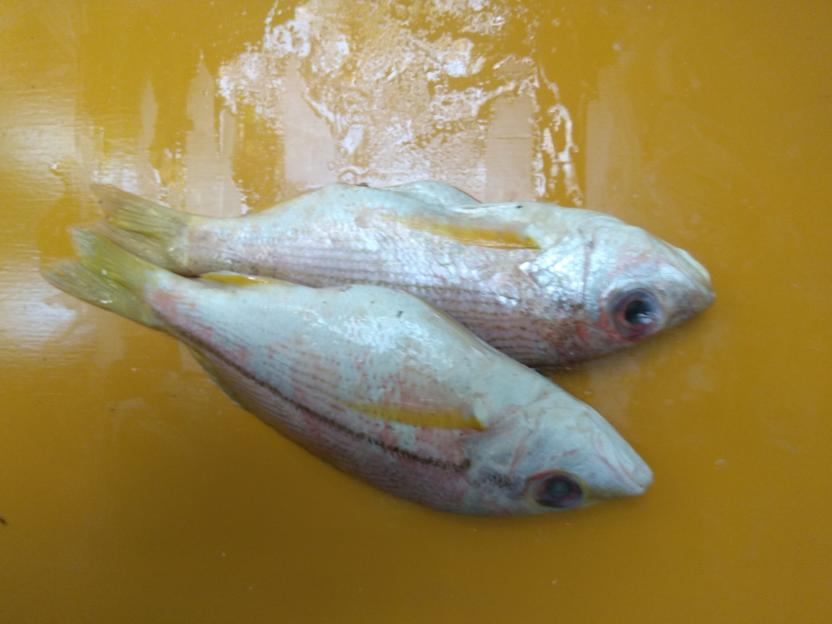Fish head: (533, 216, 715, 362), (486, 391, 654, 519)
Fish tail: (35, 224, 170, 333), (81, 183, 187, 276)
